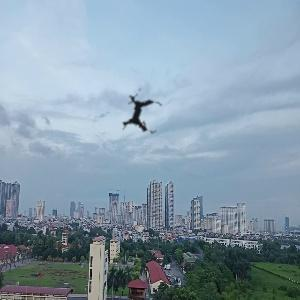drone: (98, 70, 183, 155)
